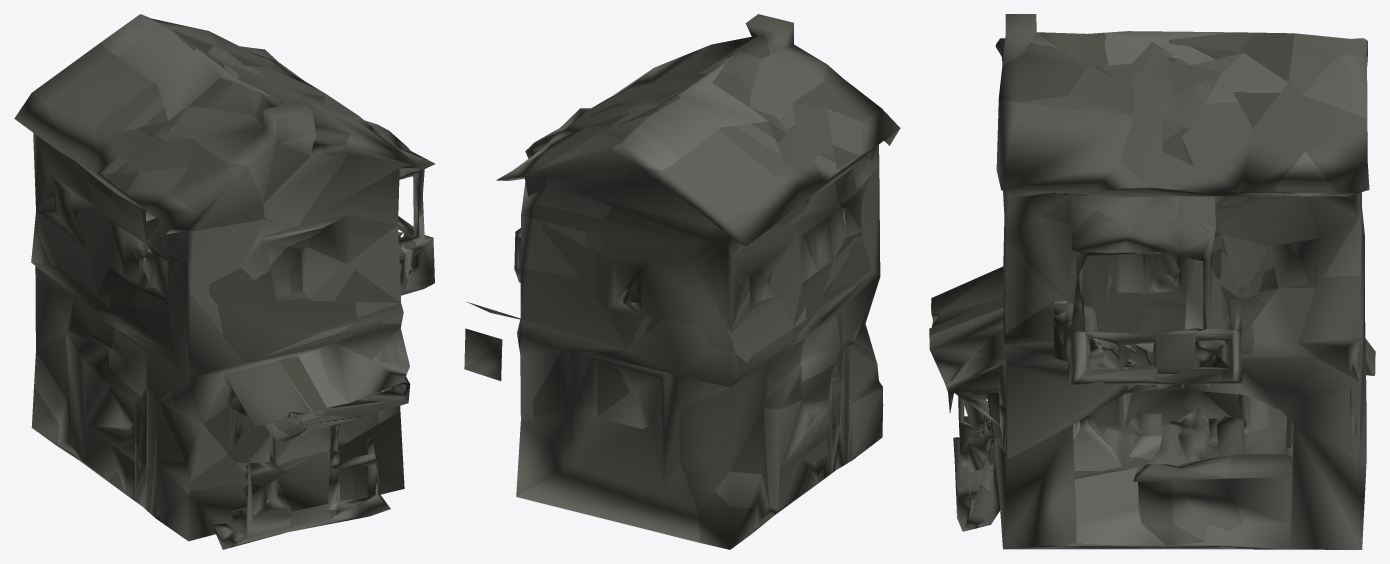
File: house_craftsman_0_lo.glb
3 views of the same model, side by side, from view 1: azimuth 30°, elevation 25°; view 2: azimuth 150°, elevation 25°; view 3: azimuth 270°, elevation 25° (orthographic). The views are drawn at different scales.
Visible parts, largest first — view 1: house_craftsman_0; view 2: house_craftsman_0; view 3: house_craftsman_0.
Part boxes in pixels (left/top/right/bottom): house_craftsman_0: left=14, top=14, right=434, bottom=549; house_craftsman_0: left=464, top=14, right=900, bottom=549; house_craftsman_0: left=929, top=14, right=1375, bottom=549.
Size of the model in its own units: 0.7589 by 0.9778 by 0.8527.
1 material, 1 textured.
